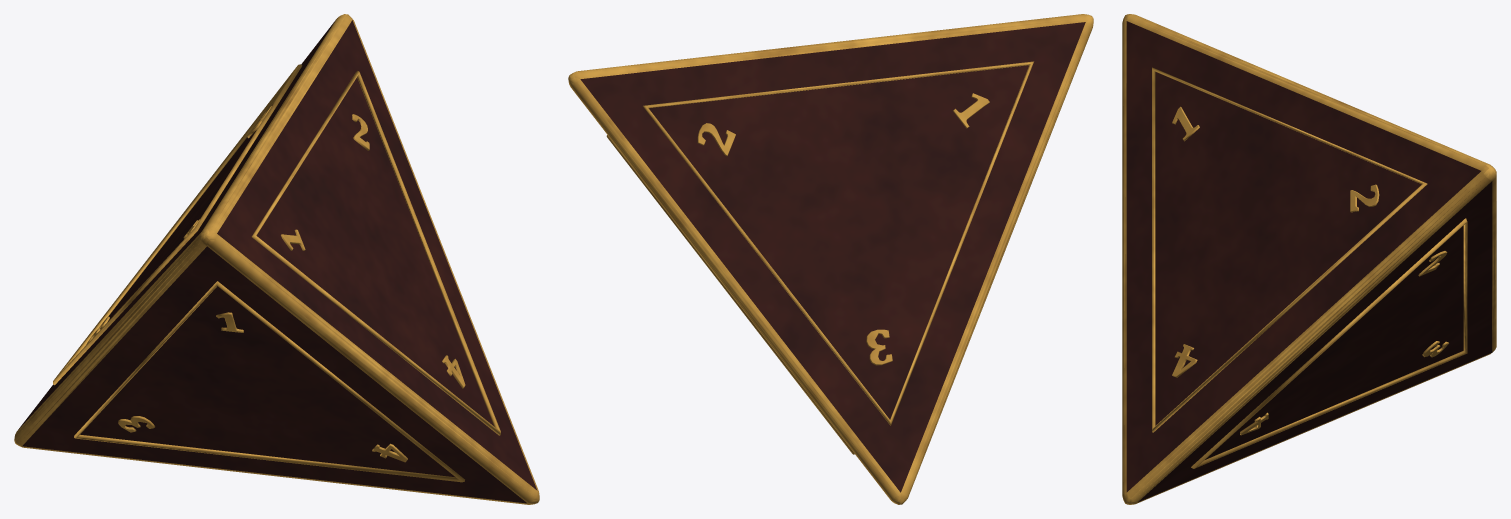
3 views of the same model, side by side, from view 1: azimuth 30°, elevation 25°; view 2: azimuth 150°, elevation 25°; view 3: azimuth 270°, elevation 25° (orthographic). The views are drawn at different scales.
Parts seen in each view (by area): view 1: D4_Corrected; view 2: D4_Corrected; view 3: D4_Corrected.
Boxes of the visible parts, <box> form: D4_Corrected: <box>14,14,539,504</box>; D4_Corrected: <box>568,14,1093,504</box>; D4_Corrected: <box>1122,14,1496,504</box>.
Bounding box in the file's own units: 0.6868 × 0.6868 × 0.6868.
2 materials, 2 textured.
